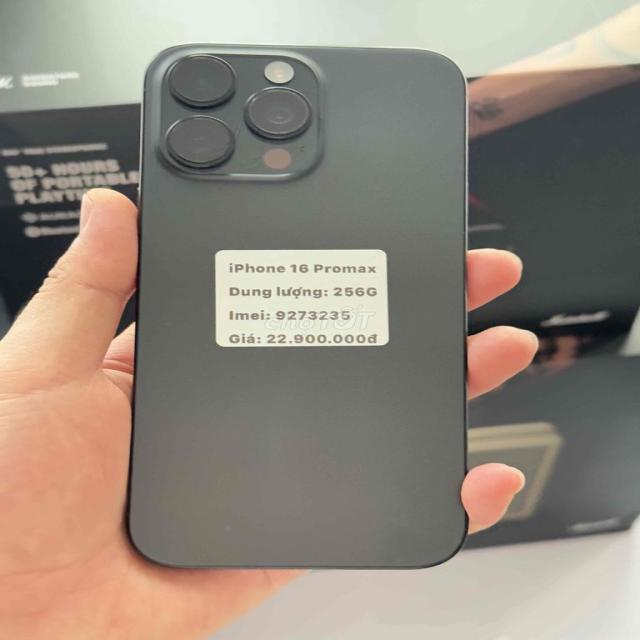gen_16: (128, 44, 467, 568)
